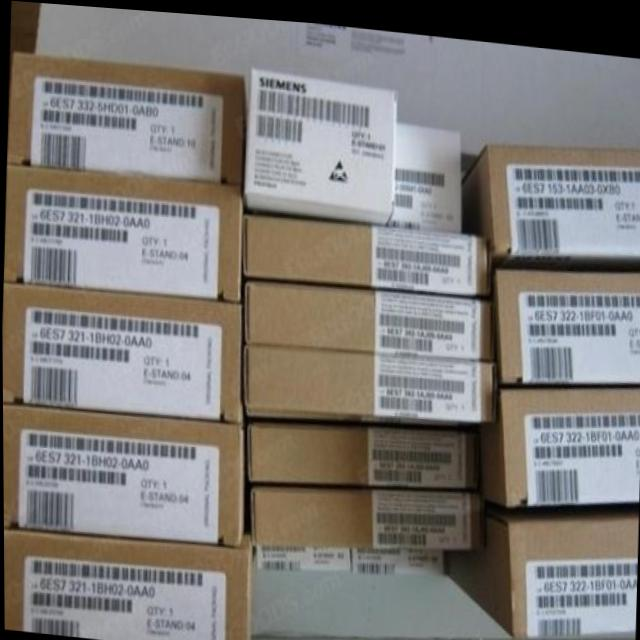box: (3, 161, 244, 299), (2, 281, 242, 419), (2, 403, 243, 539), (6, 49, 244, 180), (3, 523, 250, 640), (442, 495, 637, 628), (244, 59, 399, 218), (459, 138, 640, 255), (241, 206, 491, 289), (241, 336, 494, 417), (244, 273, 493, 352), (479, 374, 640, 494), (493, 257, 640, 376), (245, 474, 486, 540), (245, 417, 477, 478), (386, 117, 463, 218), (254, 536, 447, 569)
